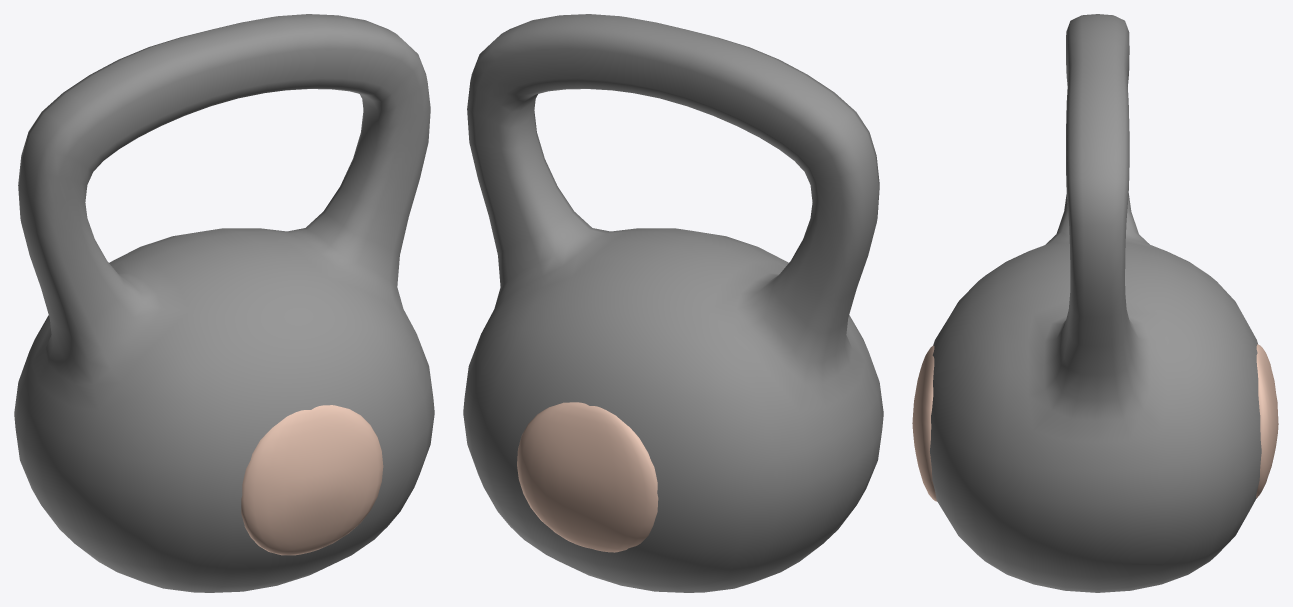
File: kettlebell 1.fbx
3 renders of one model, left to right at view 1: azimuth 30°, elevation 25°; view 2: azimuth 150°, elevation 25°; view 3: azimuth 270°, elevation 25°, orthographic. The views are drawn at different scales.
Visible parts, largest first — view 1: kettlebell; view 2: kettlebell; view 3: kettlebell.
Part boxes in pixels (box(x1,y1,x2,y2)): kettlebell: box(14, 14, 434, 592); kettlebell: box(463, 14, 883, 592); kettlebell: box(912, 14, 1278, 592).
Bounding box in the file's own units: 287 × 367 × 240.
